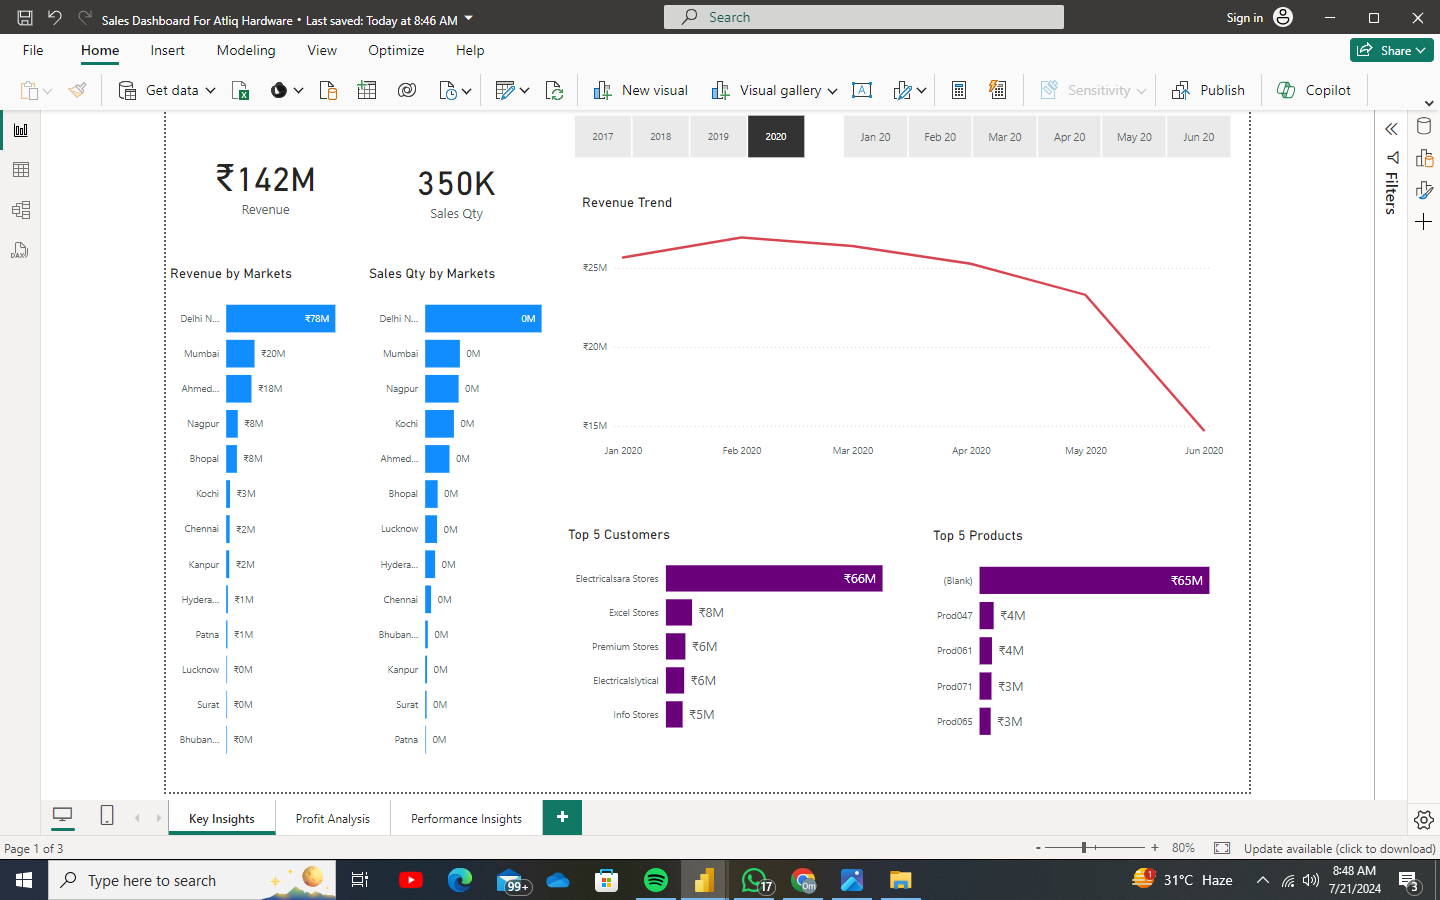

This screenshot's page, from the dashboard's own definition file:
{"tool":"powerbi","page":{"name":"Key Insights","canvas":[1350,850],"ordinal":0},"visuals":[{"type":"card","fields":{"Values":["BaseMeasures (2).Revenue"]},"box":[0,0,247.9,184.6],"z":0},{"type":"card","fields":{"Values":["BaseMeasures (2).Sales Qty"]},"box":[247.9,0,227.9,193.1],"z":1000},{"type":"barChart","title":"Revenue by Markets","fields":{"Y":["BaseMeasures (2).Revenue"],"Category":["sales markets.markets_name"]},"box":[0,193.1,247.9,631.9],"z":2000},{"type":"barChart","title":"Sales Qty by Markets","fields":{"Y":["BaseMeasures (2).Sales Qty"],"Category":["sales markets.markets_name"]},"box":[247.9,193.1,247.9,631.9],"z":3000},{"type":"slicer","fields":{"Values":["sales date.year"]},"box":[483.2,0,335.5,66.5],"z":4000},{"type":"slicer","fields":{"Values":["sales date.cy_date"]},"box":[818.6,0,531.7,66.5],"z":5000},{"type":"barChart","title":"Top 5 Customers","fields":{"Y":["BaseMeasures (2).Revenue"],"Category":["sales customers.custmer_name"]},"box":[495.8,519,446.2,274.3],"z":6000},{"type":"barChart","title":"Top 5 Products","fields":{"Y":["BaseMeasures (2).Revenue"],"Category":["sales products.product_code"]},"box":[950.7,519.2,399.5,282.8],"z":7000},{"type":"lineChart","title":"Revenue Trend","fields":{"Y":["BaseMeasures (2).Revenue"],"Category":["sales date.cy_date"]},"box":[513.8,104.4,809.1,338.6],"z":8000}]}

Visuals, with their boxes on the page's 1350x850 design canvas (x1, y1, x2, y2). These are canvas units, not pixel positions in the 1440x900 screenshot, which may show the page scaled, cropped or inside an application window:
card - BaseMeasures (2).Revenue: (0, 0, 248, 185)
card - BaseMeasures (2).Sales Qty: (248, 0, 476, 193)
"Revenue by Markets" barChart: (0, 193, 248, 825)
"Sales Qty by Markets" barChart: (248, 193, 496, 825)
slicer - sales date.year: (483, 0, 819, 66)
slicer - sales date.cy_date: (819, 0, 1350, 66)
"Top 5 Customers" barChart: (496, 519, 942, 793)
"Top 5 Products" barChart: (951, 519, 1350, 802)
"Revenue Trend" lineChart: (514, 104, 1323, 443)
